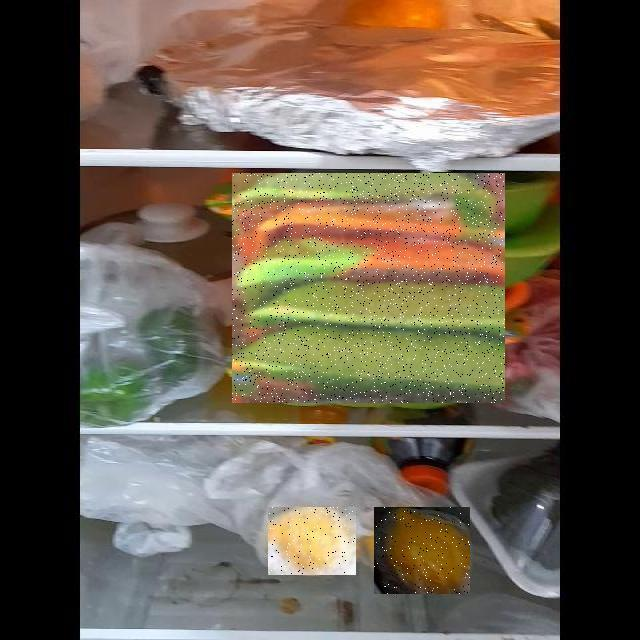Lemon: (374, 507, 470, 594), (268, 507, 356, 575)
Meat: (232, 173, 505, 403)
